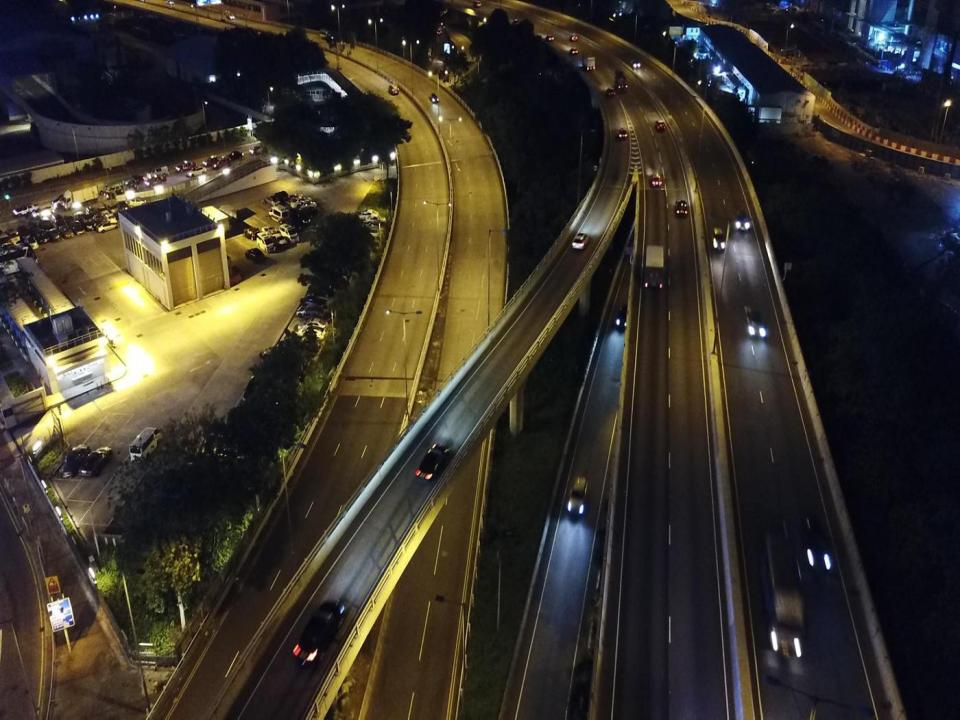bus: (0, 242, 38, 275), (104, 176, 137, 198)
car: (293, 599, 344, 670), (804, 514, 832, 575), (416, 443, 450, 482), (59, 443, 90, 479), (78, 446, 113, 477), (567, 476, 588, 519), (296, 327, 326, 342), (297, 317, 328, 331), (296, 304, 324, 319), (300, 295, 328, 309), (617, 304, 630, 329), (12, 204, 39, 216), (244, 248, 265, 263), (712, 228, 725, 252), (736, 210, 750, 231), (96, 221, 120, 233), (270, 233, 288, 249), (145, 174, 167, 187), (32, 204, 54, 217), (284, 218, 304, 232), (52, 194, 73, 207), (291, 196, 312, 209), (364, 216, 388, 226), (243, 227, 260, 241), (674, 200, 687, 218), (123, 174, 144, 185), (176, 161, 196, 172), (212, 158, 231, 169), (34, 230, 50, 243), (356, 209, 379, 218), (46, 229, 61, 242), (275, 190, 289, 203), (224, 151, 244, 160), (188, 166, 206, 176), (116, 202, 131, 214), (299, 201, 317, 211), (203, 156, 220, 166), (261, 226, 278, 236), (264, 196, 281, 206), (60, 225, 73, 238), (66, 214, 79, 227), (26, 235, 38, 249), (71, 223, 84, 235), (652, 172, 662, 187), (84, 206, 99, 216), (250, 146, 268, 154), (130, 198, 146, 207), (74, 211, 88, 221), (95, 207, 110, 216), (106, 204, 118, 214), (104, 214, 117, 223), (428, 93, 439, 103), (655, 120, 665, 130), (618, 127, 627, 138), (605, 88, 616, 96), (631, 60, 640, 68), (569, 47, 578, 54), (545, 35, 554, 41), (570, 35, 578, 41), (226, 14, 235, 19), (512, 19, 518, 26), (436, 28, 442, 34), (166, 0, 173, 5)
truck: (761, 536, 805, 664), (644, 244, 666, 291), (199, 206, 230, 238), (62, 185, 98, 210), (745, 307, 766, 343), (614, 70, 627, 92), (582, 55, 595, 70)
van: (129, 427, 162, 463), (279, 223, 300, 244), (77, 181, 105, 196), (256, 232, 276, 253), (268, 205, 289, 223), (356, 228, 380, 241), (146, 165, 168, 179), (292, 208, 311, 224), (5, 228, 20, 248), (78, 216, 94, 230), (0, 227, 10, 249), (79, 215, 93, 230), (50, 213, 66, 226), (27, 222, 42, 234), (319, 29, 334, 40), (388, 84, 399, 95), (18, 225, 30, 235), (94, 216, 105, 226), (38, 211, 48, 222), (473, 0, 480, 7)
